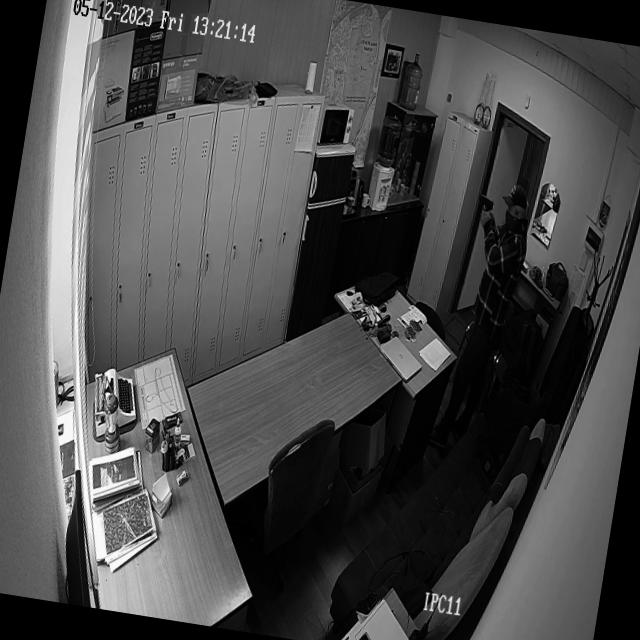gun: (472, 196, 498, 213)
person with a gun: (444, 154, 540, 442)
